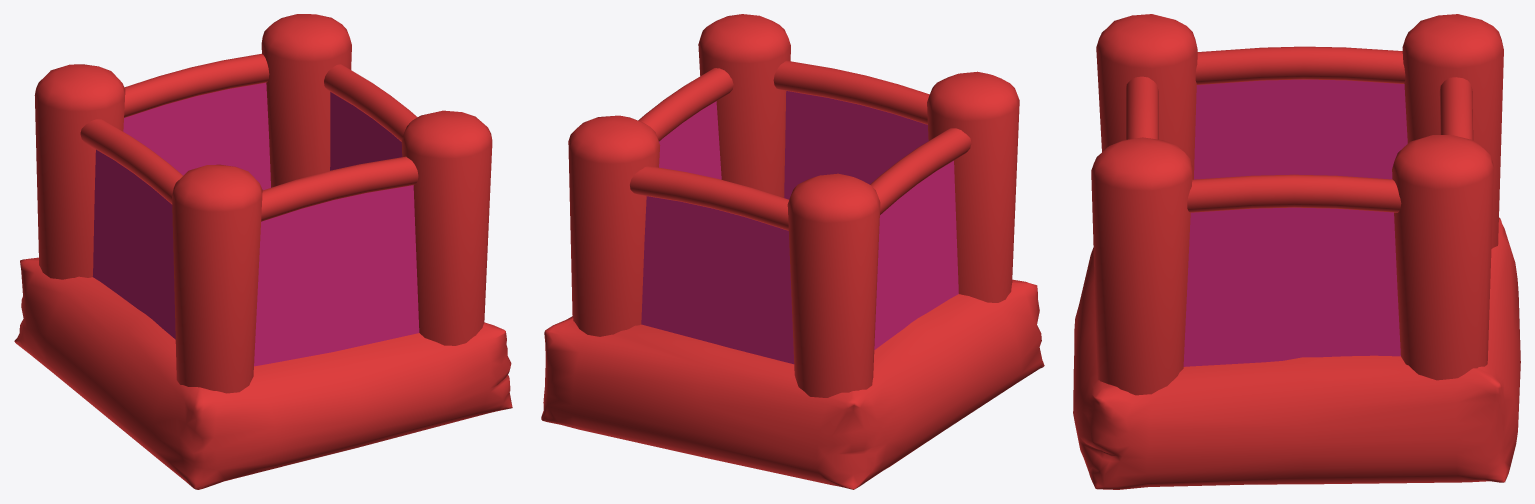
3 views of the same model, side by side, from view 1: azimuth 30°, elevation 25°; view 2: azimuth 150°, elevation 25°; view 3: azimuth 270°, elevation 25° (orthographic). The views are drawn at different scales.
Visible parts, largest first — view 1: Tower_Low, Mat_Low, Alpha, Cylinders_Low; view 2: Tower_Low, Mat_Low, Alpha, Cylinders_Low; view 3: Tower_Low, Mat_Low, Alpha, Cylinders_Low.
Part boxes in pixels (<box>): Tower_Low: <box>34,14,492,393</box>; Mat_Low: <box>14,257,512,489</box>; Alpha: <box>92,82,419,366</box>; Cylinders_Low: <box>80,53,418,221</box>; Tower_Low: <box>568,14,1019,397</box>; Mat_Low: <box>541,279,1044,489</box>; Alpha: <box>641,91,958,364</box>; Cylinders_Low: <box>630,60,971,230</box>; Tower_Low: <box>1091,14,1503,395</box>; Mat_Low: <box>1073,217,1520,489</box>; Alpha: <box>1183,79,1407,366</box>; Cylinders_Low: <box>1125,46,1473,212</box>.
Bounding box in the file's own units: 1.93 × 1.59 × 2.
